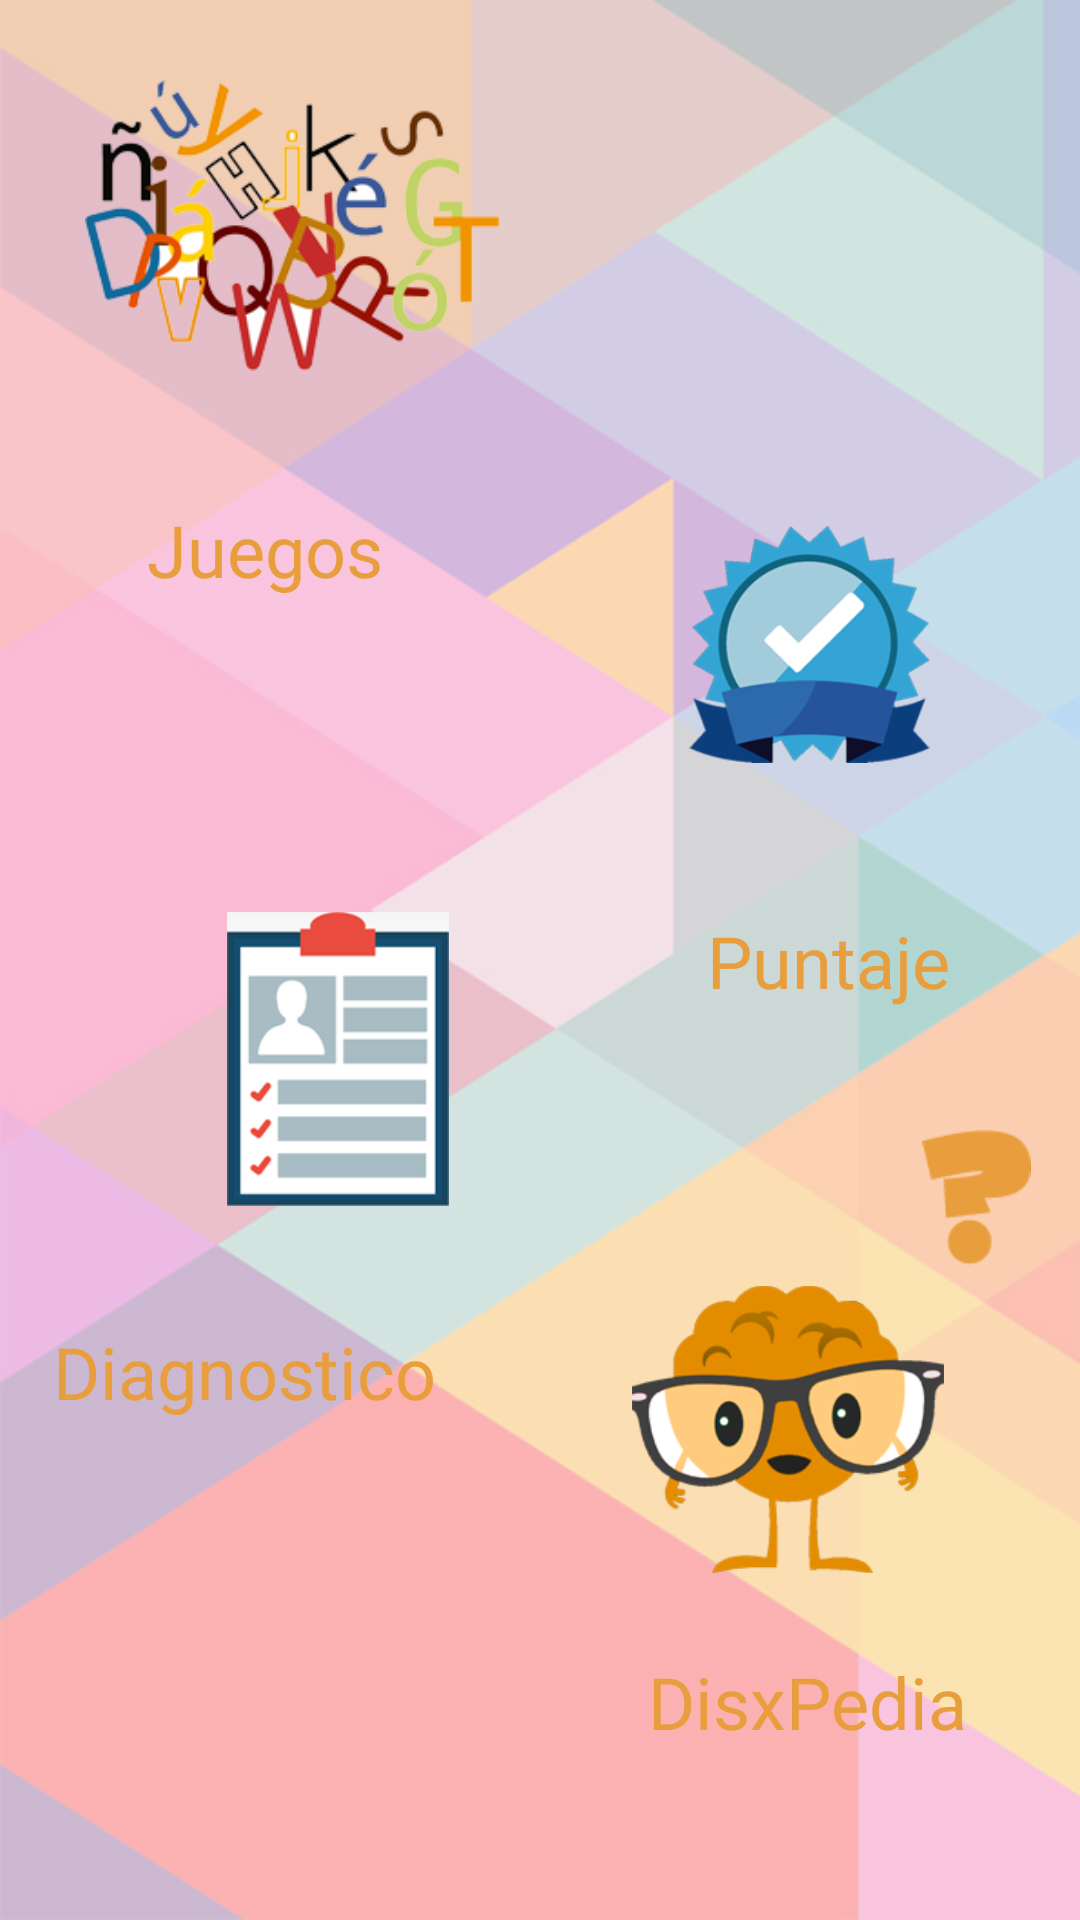

Point at icon controls on the screen. Image size 1080 × 1920, points as (x=x, y=y).
interrogacion: (x=965, y=1197)
puntuacion: (x=798, y=644)
